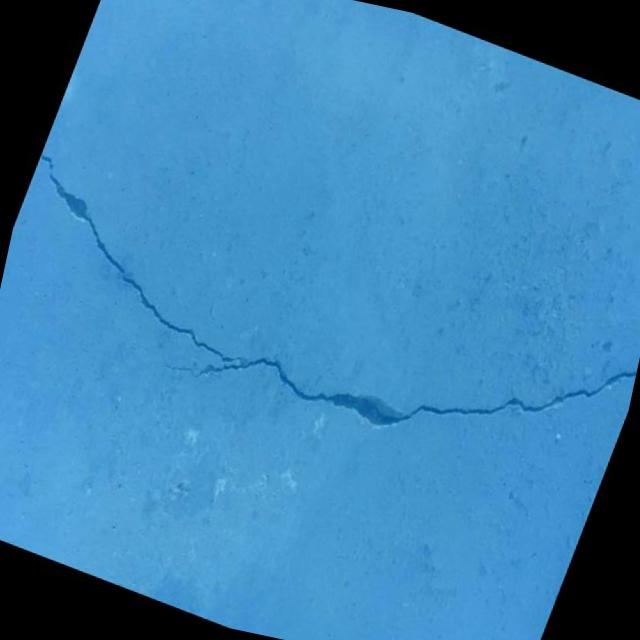crack: (0, 141, 640, 532)
